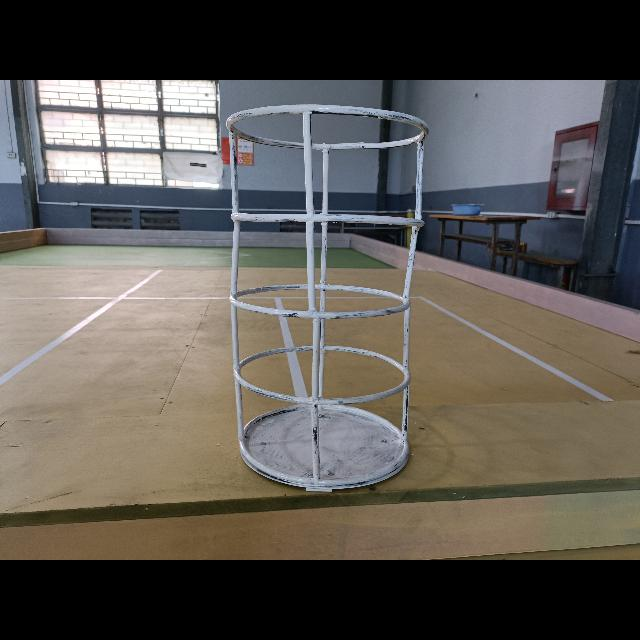S: (227, 104, 428, 495)
